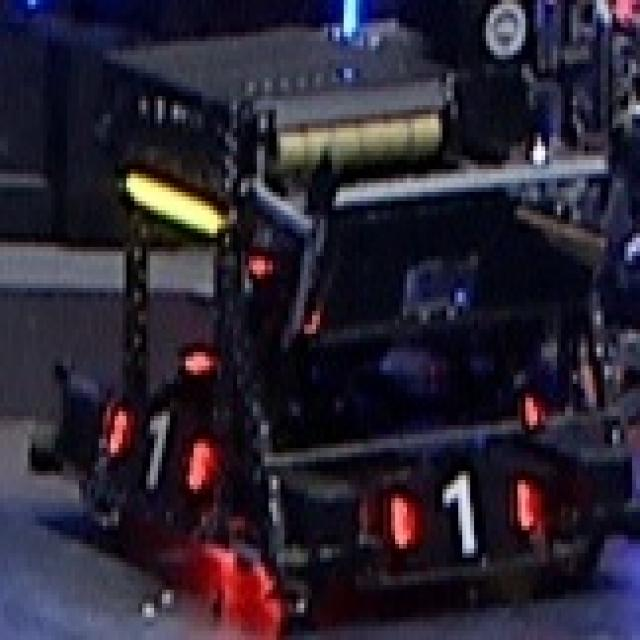R1: (387, 471, 533, 558), (103, 402, 213, 494)
